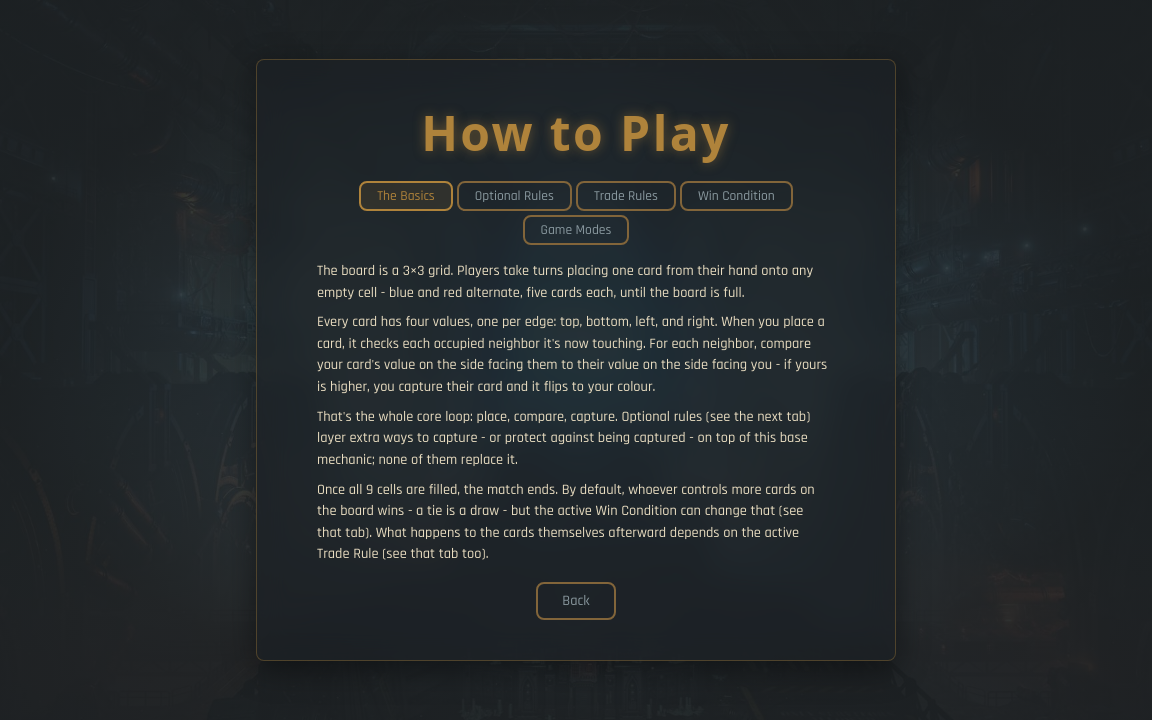
Test: HowToPlayScreen tabs › switches to Win Condition content when that tab is clicked
Click the tab "Win Condition". click: (736, 196)
box: left=680, top=181, right=793, bottom=211
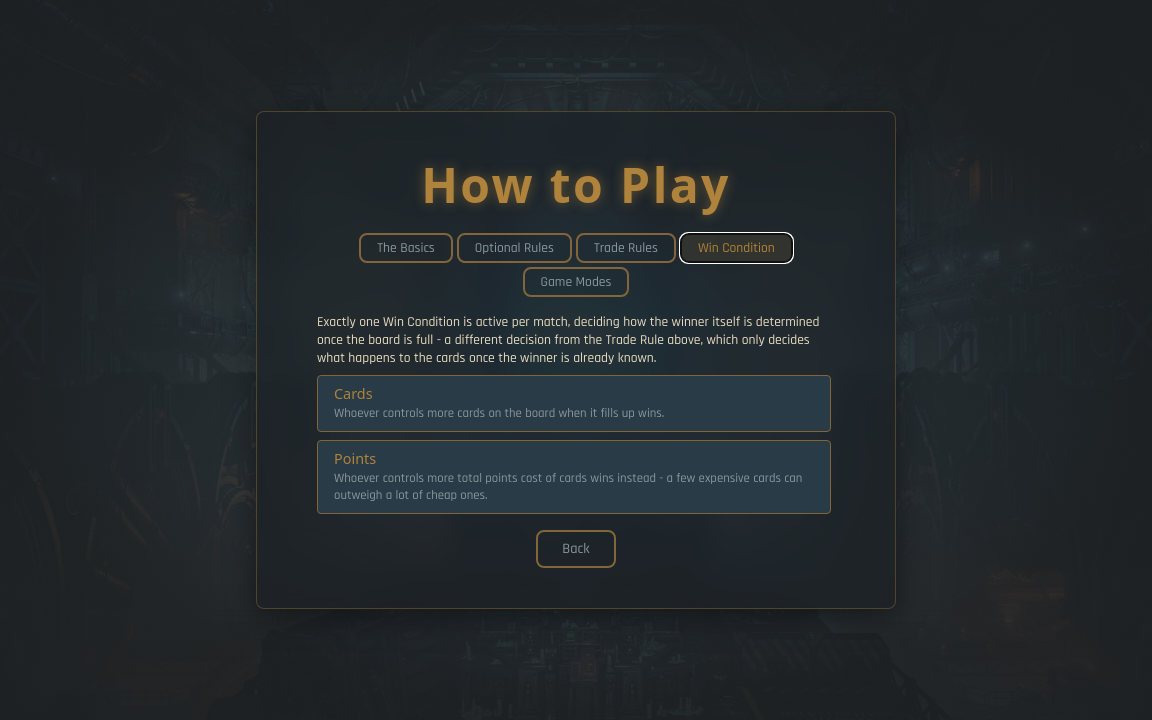
expect the text "Exactly one Win Condition is active per match" is shown: met, box left=317, top=313, right=819, bottom=367
